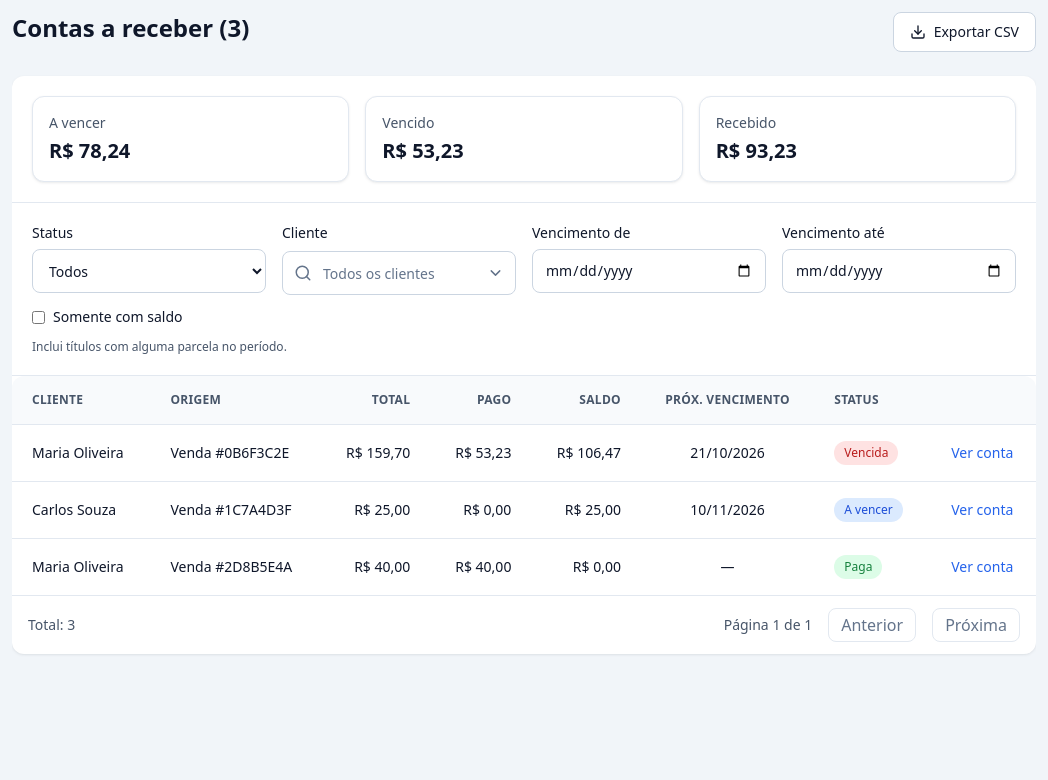
Test: Exportar CSV › erro 422 (blob JSON) mostra a mensagem da API uma vez e reabilita o botão
This screenshot has width=1048, height=780.
Check: the text "Carlos Souza" is shown, box [12,482,150,538]
Click the button "Exportar CSV" at (964, 32), box [893,12,1036,52]
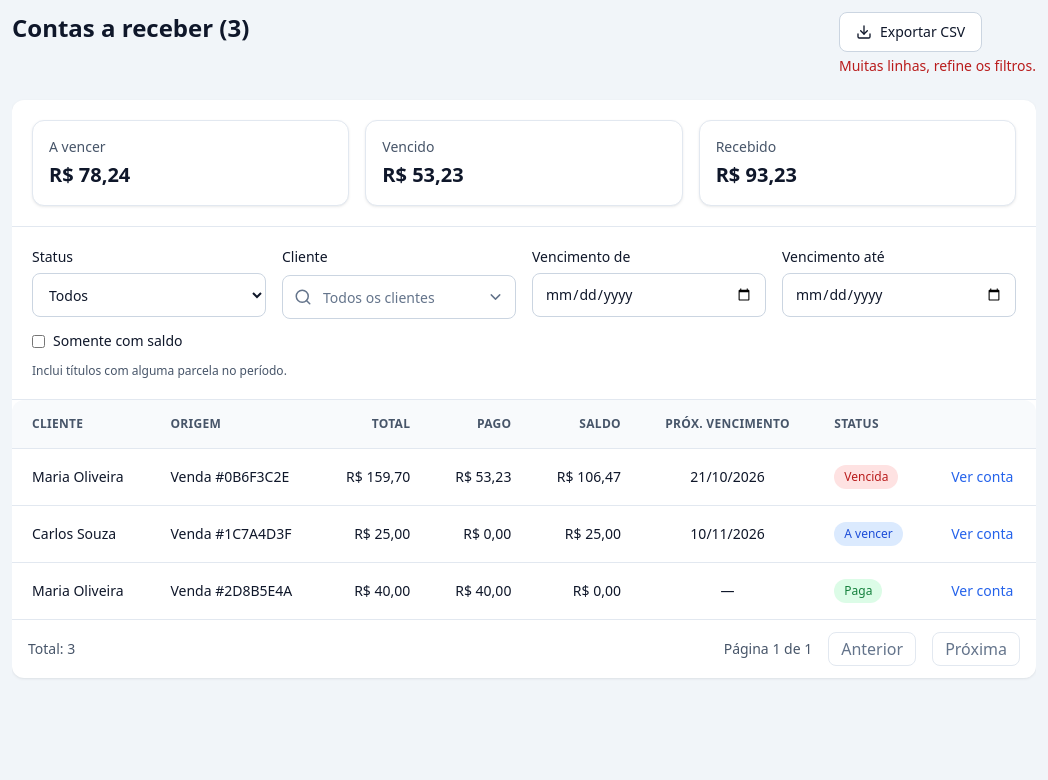
Check: the button "Exportar CSV" is enabled, box [839,12,982,52]
Check: the text "Muitas linhas, refine os filtros." is shown once, box [839,56,1036,76]
